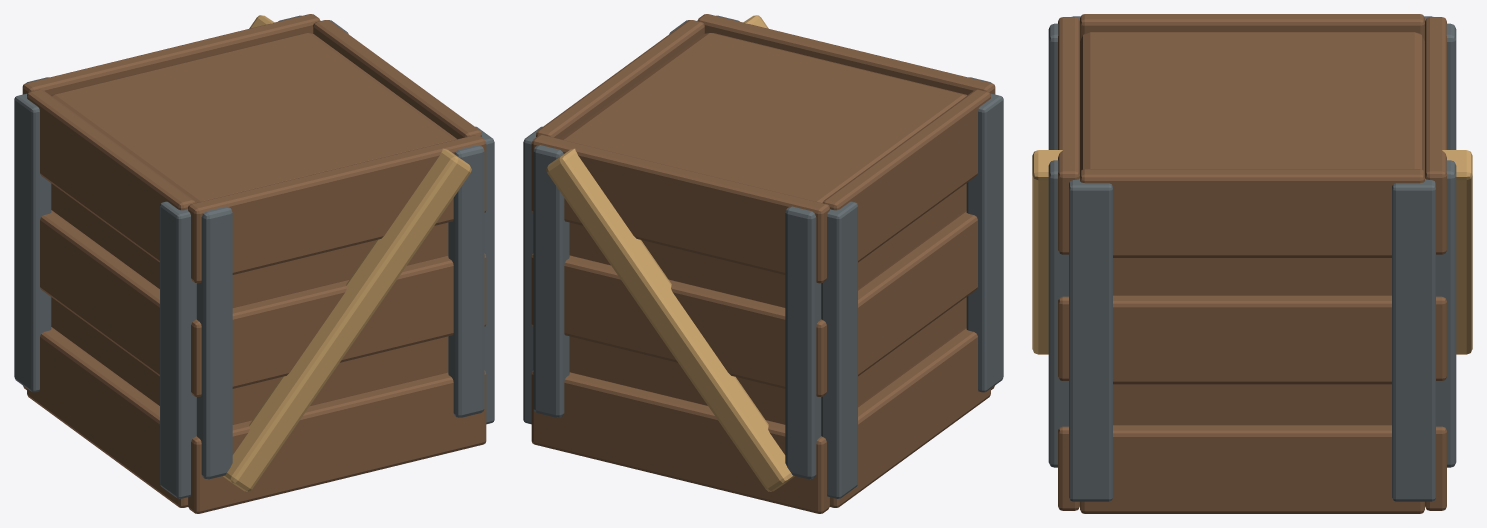
File: stage1_crate.glb
The picture shows the model from 3 angles, left to right: view 1: azimuth 30°, elevation 25°; view 2: azimuth 150°, elevation 25°; view 3: azimuth 270°, elevation 25°; orthographic projection. The views are drawn at different scales.
Visible parts, largest first — view 1: SceneryRuntime; view 2: SceneryRuntime; view 3: SceneryRuntime.
Boxes of the visible parts, left/top/right/bottom form: SceneryRuntime: left=14, top=14, right=494, bottom=513; SceneryRuntime: left=523, top=14, right=1003, bottom=513; SceneryRuntime: left=1032, top=14, right=1472, bottom=513.
Bounding box in the file's own units: 1.11 × 1.02 × 1.2.
